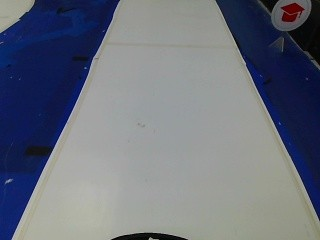school: (271, 0, 311, 31)
